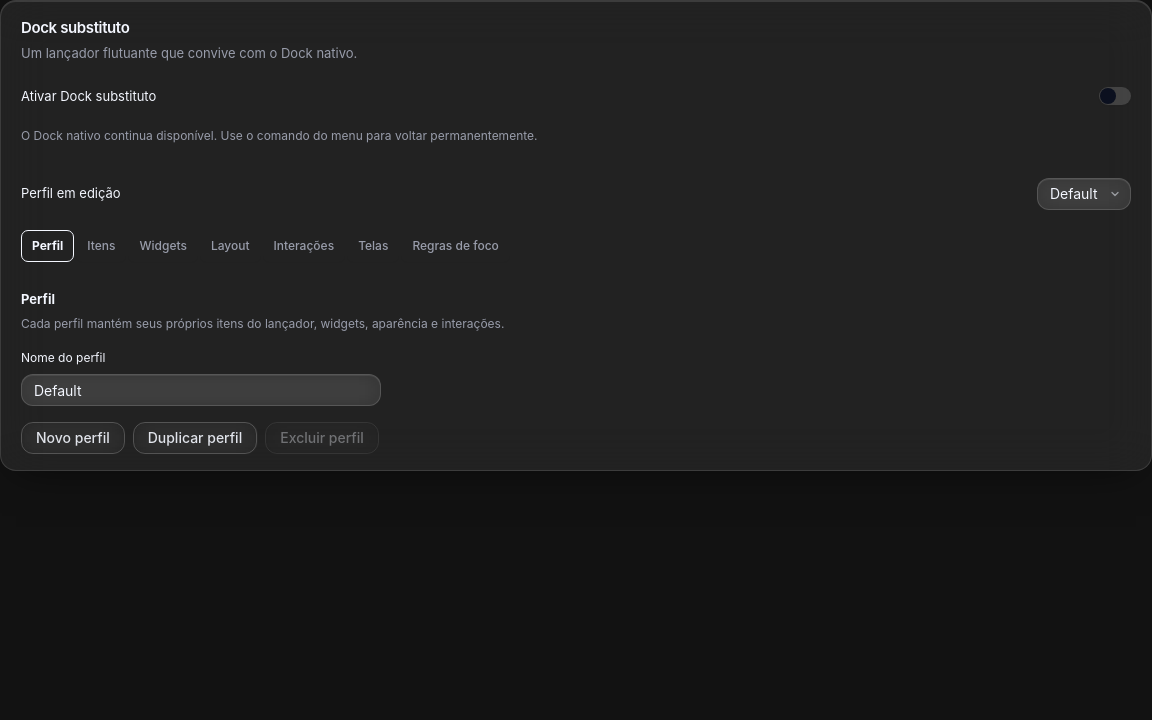
Test: ReplacementDock › renders localized interaction controls in pt-BR
The width and height of the screenshot is (1152, 720).
Click the button "Interações" at (304, 246), box [262, 230, 345, 262]
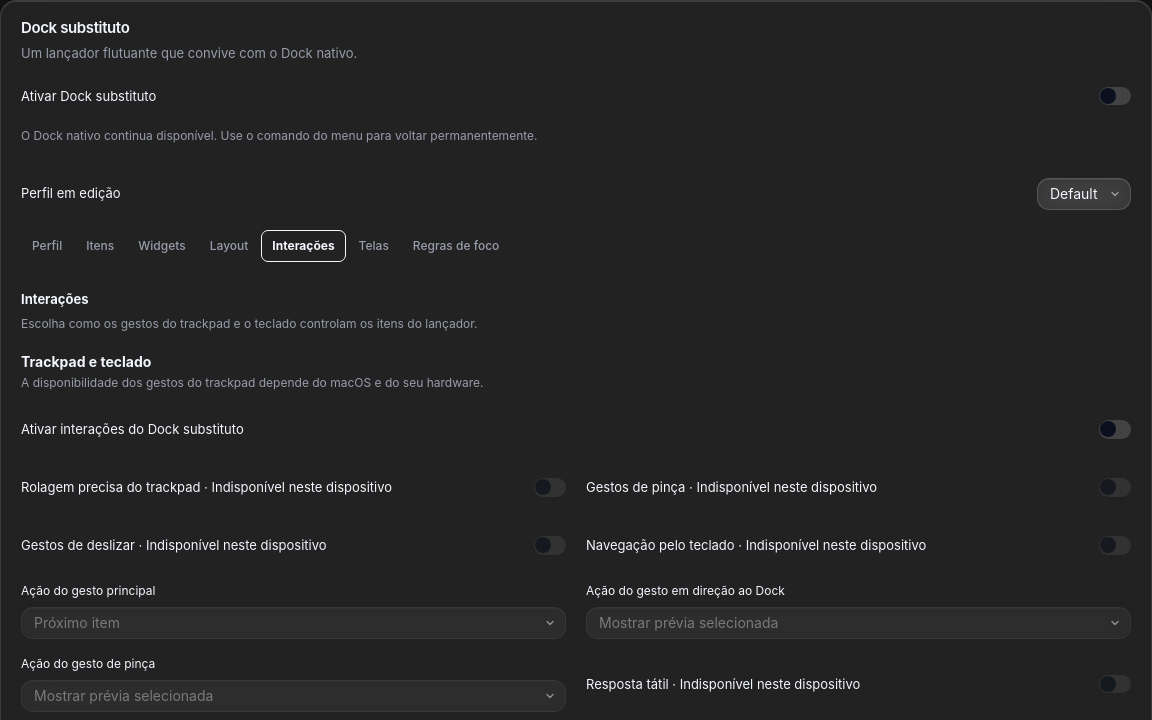
Expected: the text "Trackpad e teclado" is shown, [21, 353, 151, 370]
Expected: the text "Rolagem precisa do trackpad · Indisponível neste dispositivo" is shown 5 times, [21, 478, 392, 497]; [586, 478, 877, 497]; [21, 536, 326, 555]; [586, 536, 926, 555]; [586, 674, 860, 693]
